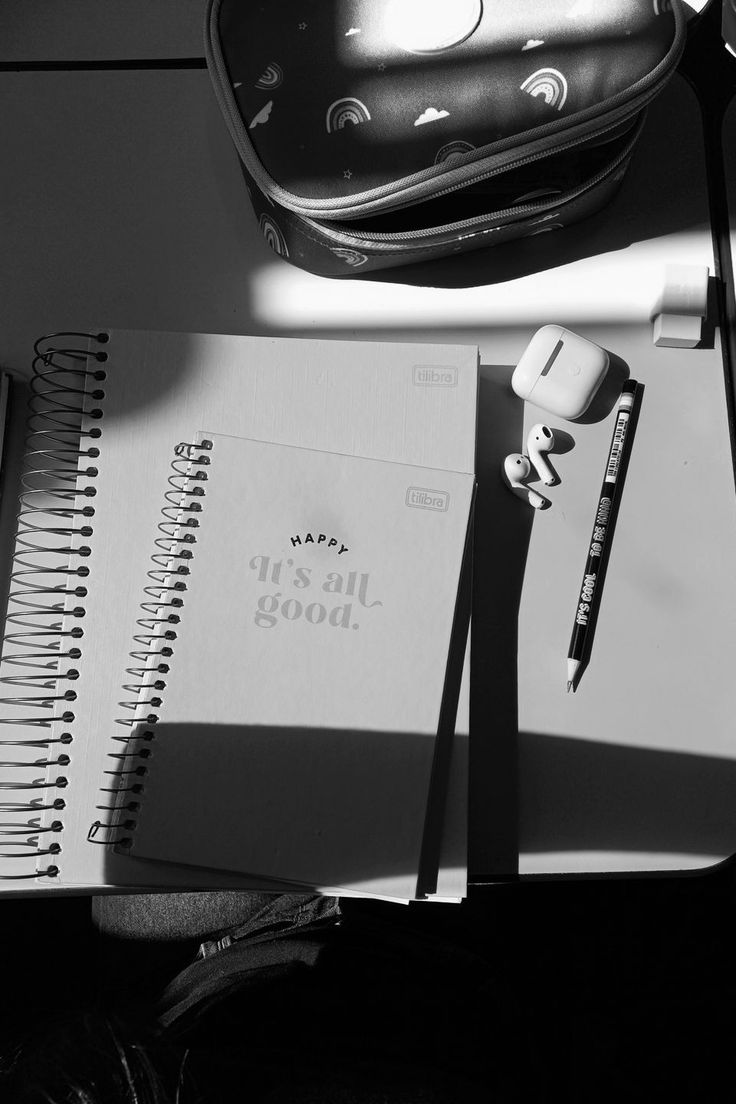not a gesture sign: (415, 296, 683, 690)
